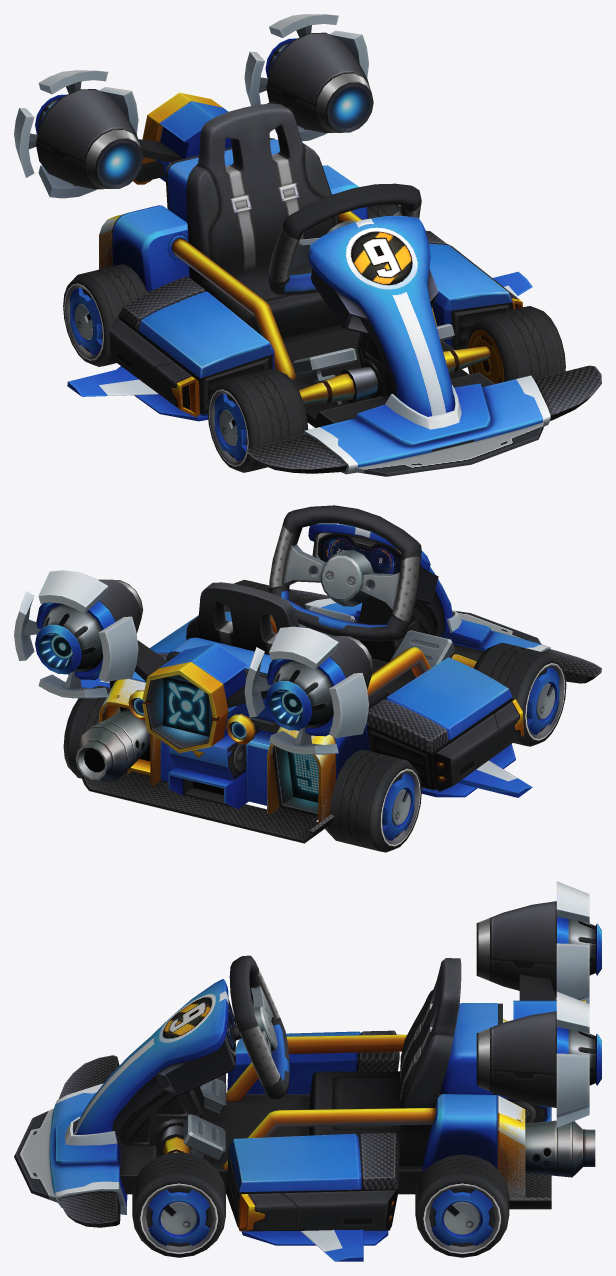
Rendered from my-kart.glb.
3 views of the same model, one above another, from view 1: azimuth 30°, elevation 25°; view 2: azimuth 150°, elevation 25°; view 3: azimuth 270°, elevation 25° (orthographic). The views are drawn at different scales.
Parts seen in each view (by area): view 1: WIRE_r_0128, WIRE_r_0128_fr, WIRE_r_0128_fl, WIRE_r_0128_fr.001; view 2: WIRE_r_0128, WIRE_r_0128_fr.001, WIRE_r_0128_fr, WIRE_r_0128_fl.001; view 3: WIRE_r_0128, WIRE_r_0128_fl, WIRE_r_0128_fl.001.
Boxes of the visible parts, x1=… form: WIRE_r_0128: x1=14, y1=14, x2=601, y2=476; WIRE_r_0128_fr: x1=207, y1=369, x2=308, y2=472; WIRE_r_0128_fl: x1=465, y1=306, x2=565, y2=383; WIRE_r_0128_fr.001: x1=63, y1=264, x2=148, y2=366; WIRE_r_0128: x1=14, y1=505, x2=601, y2=843; WIRE_r_0128_fr.001: x1=325, y1=749, x2=421, y2=852; WIRE_r_0128_fr: x1=473, y1=642, x2=566, y2=746; WIRE_r_0128_fl.001: x1=63, y1=685, x2=130, y2=778; WIRE_r_0128: x1=14, y1=881, x2=601, y2=1261; WIRE_r_0128_fl: x1=132, y1=1152, x2=225, y2=1257; WIRE_r_0128_fl.001: x1=415, y1=1154, x2=509, y2=1257.
Bounding box in the file's own units: 1.69 × 0.8849 × 1.95.
1 material, 1 textured.
